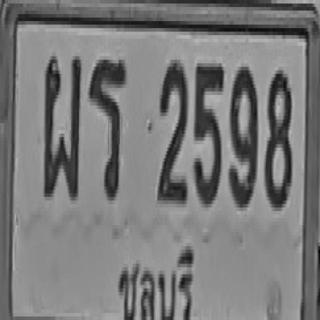A28: (43, 54, 81, 199)
A35: (88, 56, 126, 200)
N02: (157, 60, 187, 204)
N05: (194, 62, 224, 206)
N08: (265, 67, 292, 208)
N09: (228, 63, 258, 208)
P13: (110, 232, 200, 320)
